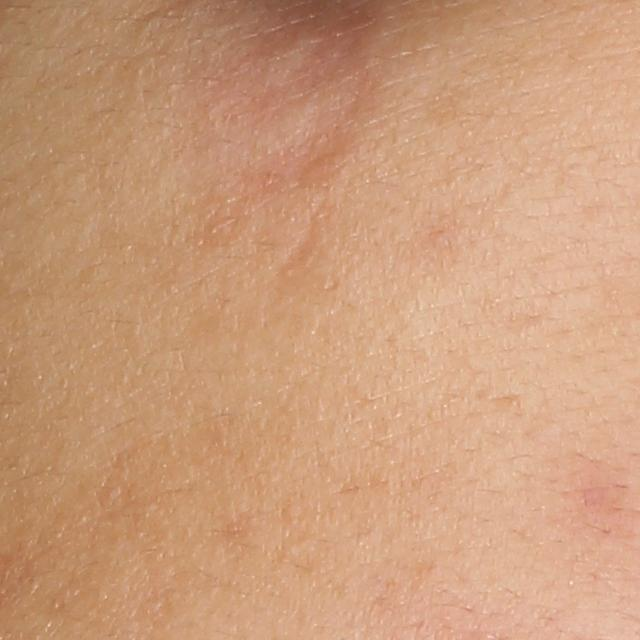atrophic_scar: (216, 27, 371, 131), (244, 108, 353, 186), (278, 221, 322, 274)
